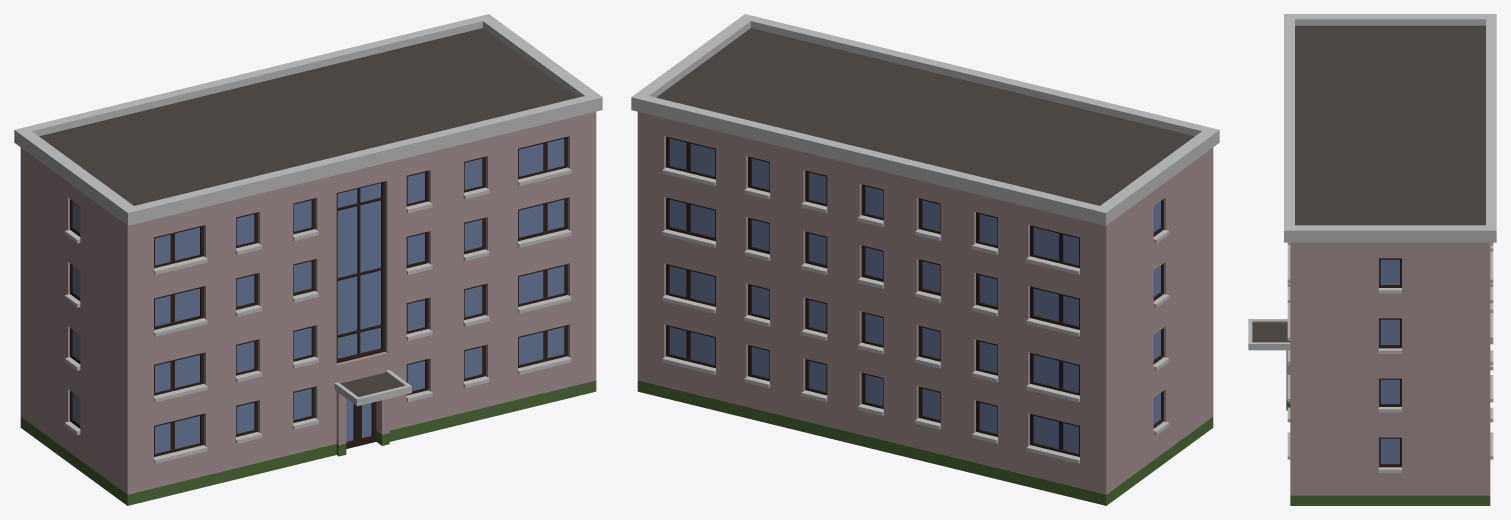
Rendered from ApartmentBuilding_15.fbx.
3 views of the same model, side by side, from view 1: azimuth 30°, elevation 25°; view 2: azimuth 150°, elevation 25°; view 3: azimuth 270°, elevation 25° (orthographic). The views are drawn at different scales.
Parts seen in each view (by area): view 1: ApartmentBuilding_15; view 2: ApartmentBuilding_15; view 3: ApartmentBuilding_15.
Part boxes in pixels (box(x1,y1,x2,y2)): ApartmentBuilding_15: box(14, 14, 602, 505); ApartmentBuilding_15: box(631, 14, 1219, 505); ApartmentBuilding_15: box(1248, 14, 1496, 505).
Size of the model in its own units: 19.2 by 11.44 by 9.31.
